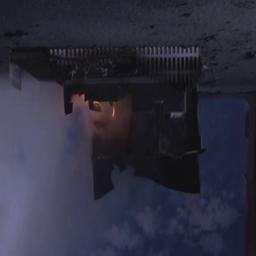smoke: (0, 128, 92, 256)
